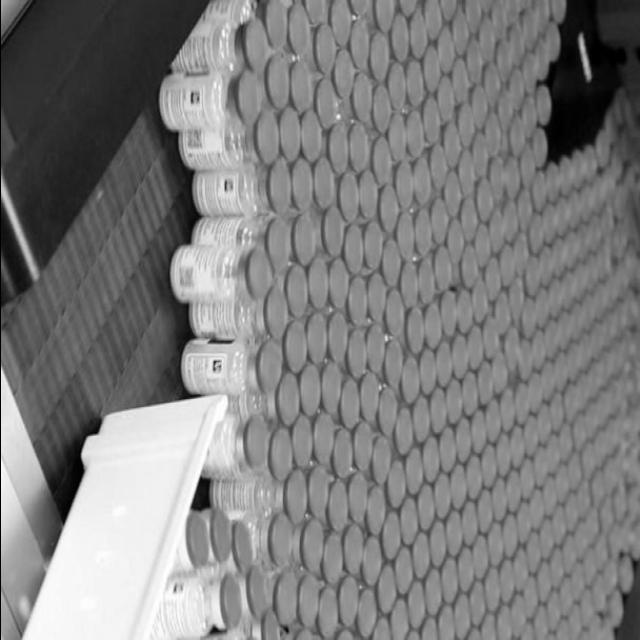vial: (256, 338, 280, 398), (274, 372, 300, 427), (184, 509, 206, 573), (268, 513, 294, 567), (365, 31, 393, 81), (244, 20, 270, 72), (266, 160, 290, 215), (274, 574, 298, 626), (210, 506, 230, 568), (247, 246, 269, 302), (264, 286, 286, 342), (232, 518, 252, 578), (246, 414, 268, 468), (284, 267, 306, 321), (316, 587, 338, 640), (290, 418, 312, 470), (330, 428, 352, 480), (285, 319, 305, 376), (256, 111, 276, 168), (290, 3, 308, 65), (292, 216, 314, 266), (382, 291, 404, 341), (312, 414, 333, 466), (268, 220, 288, 274), (265, 0, 286, 51), (293, 161, 313, 214), (238, 71, 258, 124), (300, 520, 322, 568), (318, 366, 339, 416), (271, 429, 290, 484), (308, 260, 328, 312), (362, 223, 382, 275), (372, 82, 392, 134), (426, 388, 448, 435), (290, 63, 312, 109), (222, 574, 240, 630), (322, 534, 342, 584), (326, 480, 346, 530), (376, 566, 396, 616), (348, 474, 368, 524), (316, 79, 336, 129), (452, 418, 472, 468), (348, 328, 366, 383), (327, 311, 346, 363), (341, 378, 360, 430), (249, 564, 266, 622), (354, 76, 374, 125), (270, 55, 288, 109), (330, 126, 348, 180), (381, 511, 400, 562), (337, 578, 357, 626), (278, 110, 298, 158), (398, 356, 418, 404), (432, 342, 452, 390), (377, 184, 395, 237), (388, 16, 407, 66), (444, 381, 464, 428), (432, 250, 452, 297), (286, 472, 304, 524), (358, 586, 376, 638), (308, 313, 326, 365), (372, 138, 390, 190), (299, 575, 318, 624), (352, 425, 372, 471), (300, 113, 320, 159), (330, 0, 350, 46), (406, 306, 426, 352), (380, 240, 400, 286), (343, 526, 362, 574), (308, 468, 326, 518), (300, 366, 318, 416), (313, 158, 331, 208), (324, 207, 342, 257), (371, 437, 391, 482), (411, 396, 429, 446), (350, 22, 368, 72), (564, 494, 584, 539), (430, 198, 449, 245), (387, 62, 405, 111), (446, 468, 466, 512), (394, 548, 412, 596), (515, 498, 531, 552), (333, 51, 352, 96), (366, 275, 384, 322), (538, 359, 556, 406), (427, 148, 446, 192), (362, 539, 379, 588), (366, 488, 384, 534), (328, 260, 346, 306), (348, 277, 366, 323), (394, 408, 412, 454), (421, 51, 441, 92), (421, 98, 438, 146), (453, 595, 471, 640), (466, 449, 484, 494), (497, 429, 512, 483), (318, 22, 334, 72), (360, 172, 376, 222), (502, 512, 518, 562), (484, 399, 500, 449), (360, 375, 378, 419), (386, 462, 404, 506), (410, 16, 428, 60), (475, 488, 493, 532), (486, 526, 504, 570), (350, 123, 366, 172), (527, 528, 543, 577), (345, 228, 362, 274), (393, 162, 410, 208), (400, 500, 416, 548), (456, 550, 472, 598), (372, 0, 396, 32), (438, 429, 456, 471), (459, 247, 477, 289), (433, 475, 449, 522), (447, 509, 463, 556), (500, 560, 516, 607), (529, 490, 545, 537), (458, 504, 475, 548), (414, 207, 431, 251), (455, 290, 472, 334), (408, 583, 424, 629), (424, 568, 440, 614), (379, 386, 395, 432), (420, 352, 436, 398), (422, 438, 438, 483), (384, 342, 402, 382), (340, 175, 357, 217), (396, 213, 413, 255), (438, 28, 453, 75), (557, 576, 573, 620), (368, 327, 384, 371), (388, 116, 404, 160), (563, 533, 579, 577), (514, 549, 530, 593), (582, 440, 598, 484), (476, 180, 492, 224), (453, 12, 469, 56), (622, 292, 636, 342), (429, 523, 444, 569), (418, 486, 433, 532), (468, 324, 483, 370), (516, 190, 532, 233), (509, 68, 525, 111), (442, 558, 457, 603), (413, 535, 428, 580), (552, 504, 567, 549), (603, 342, 618, 387), (452, 60, 467, 105), (461, 376, 477, 418), (512, 234, 528, 276), (459, 152, 475, 194), (484, 64, 499, 108), (408, 111, 422, 158), (415, 159, 429, 206), (588, 362, 604, 403), (527, 215, 543, 256), (437, 79, 452, 122), (472, 536, 486, 582), (418, 258, 432, 304), (550, 547, 564, 593), (392, 600, 408, 640), (424, 308, 440, 348), (592, 468, 608, 508), (504, 158, 520, 198), (444, 174, 460, 214), (441, 296, 456, 338), (544, 477, 558, 522), (492, 479, 507, 521), (554, 348, 568, 393), (518, 339, 533, 381), (478, 361, 492, 406), (462, 202, 477, 244), (471, 582, 484, 630), (530, 170, 546, 209), (489, 213, 505, 252), (407, 64, 421, 108), (569, 451, 583, 495), (533, 447, 547, 491), (583, 400, 597, 444), (570, 340, 584, 384), (483, 319, 497, 363), (485, 258, 499, 302), (444, 124, 458, 168), (472, 88, 486, 132), (510, 593, 523, 640), (610, 594, 626, 632), (530, 128, 546, 166), (406, 451, 420, 494), (507, 471, 521, 514), (494, 293, 508, 336), (472, 282, 486, 325), (476, 225, 490, 268), (425, 0, 441, 37), (524, 576, 538, 618), (576, 482, 590, 524), (540, 522, 554, 564), (556, 466, 570, 508), (618, 335, 632, 377), (525, 417, 539, 459), (448, 222, 462, 264), (522, 54, 536, 96), (511, 426, 524, 471), (486, 565, 498, 613), (473, 410, 485, 458), (606, 381, 620, 422), (538, 246, 552, 287), (489, 159, 503, 200), (474, 134, 488, 175), (537, 562, 550, 606), (451, 338, 466, 376), (544, 592, 558, 632), (520, 460, 534, 500), (500, 390, 514, 430), (521, 299, 535, 339), (508, 280, 522, 320), (566, 191, 580, 231), (582, 144, 596, 184), (497, 40, 511, 80), (580, 185, 595, 222), (612, 296, 624, 342), (514, 386, 528, 425), (503, 200, 516, 242), (498, 92, 512, 131), (458, 106, 472, 145), (510, 25, 524, 64), (578, 224, 594, 258), (576, 372, 588, 417), (401, 265, 415, 303), (606, 457, 620, 495), (571, 414, 585, 452), (562, 386, 576, 424), (553, 239, 567, 277), (596, 130, 610, 168), (558, 156, 572, 194), (522, 98, 536, 136), (511, 117, 525, 155), (614, 418, 630, 451), (539, 403, 551, 447), (561, 271, 574, 311), (548, 280, 561, 320), (618, 557, 632, 594), (522, 149, 536, 186), (551, 387, 562, 434), (504, 328, 516, 371), (560, 309, 572, 352), (602, 558, 616, 594), (596, 536, 610, 572), (594, 432, 606, 474), (484, 446, 496, 488), (546, 438, 558, 480), (558, 426, 570, 468), (622, 373, 636, 409), (546, 320, 558, 362), (590, 214, 604, 250), (526, 256, 538, 298), (534, 44, 548, 80), (468, 40, 480, 82), (486, 116, 499, 154), (574, 264, 586, 305), (480, 20, 492, 61), (496, 605, 510, 640), (493, 354, 504, 398), (615, 485, 628, 522), (306, 0, 326, 24), (532, 331, 544, 371), (542, 205, 554, 245), (546, 164, 558, 204), (537, 86, 549, 126), (438, 606, 452, 640), (608, 524, 622, 558), (624, 452, 638, 486), (466, 0, 480, 34), (595, 394, 608, 430), (500, 247, 512, 286), (524, 11, 536, 50), (573, 560, 584, 602), (531, 372, 541, 418), (580, 590, 592, 628), (584, 550, 596, 588), (535, 290, 547, 328), (602, 204, 614, 242), (610, 148, 622, 186), (555, 199, 567, 237), (565, 231, 579, 263), (535, 0, 549, 32), (570, 603, 582, 640), (592, 319, 605, 353), (592, 576, 604, 612), (584, 333, 596, 369), (624, 248, 636, 284), (573, 302, 584, 341), (347, 0, 372, 17), (576, 520, 586, 562), (606, 278, 620, 308), (396, 0, 419, 18), (441, 0, 458, 24), (598, 500, 610, 534), (594, 178, 606, 212), (604, 110, 616, 144), (619, 523, 633, 552), (263, 614, 278, 640), (546, 23, 557, 58), (626, 489, 638, 521), (492, 2, 504, 34), (534, 606, 545, 640), (594, 288, 605, 322), (605, 422, 615, 459), (629, 411, 639, 448), (588, 254, 598, 291), (572, 152, 582, 189), (604, 168, 616, 198), (631, 334, 640, 372), (590, 512, 600, 546), (586, 294, 594, 336), (551, 0, 565, 24), (613, 95, 624, 125), (614, 228, 626, 255), (616, 446, 626, 478), (604, 311, 612, 351), (624, 97, 634, 127), (601, 619, 615, 640), (482, 616, 494, 640), (590, 616, 602, 640), (632, 528, 640, 564), (622, 133, 632, 161), (424, 618, 436, 640), (506, 0, 518, 22), (616, 262, 626, 288), (633, 125, 640, 162), (557, 619, 569, 640), (376, 620, 388, 640), (466, 625, 482, 640), (634, 173, 640, 213), (634, 372, 640, 410), (296, 626, 312, 640), (635, 290, 640, 332), (522, 623, 534, 640), (339, 627, 353, 640), (634, 92, 640, 122), (636, 216, 640, 257), (406, 629, 420, 640), (520, 0, 530, 10), (481, 0, 490, 10), (246, 633, 258, 640), (546, 632, 556, 640), (638, 254, 640, 292), (584, 628, 589, 640), (499, 0, 505, 9)
